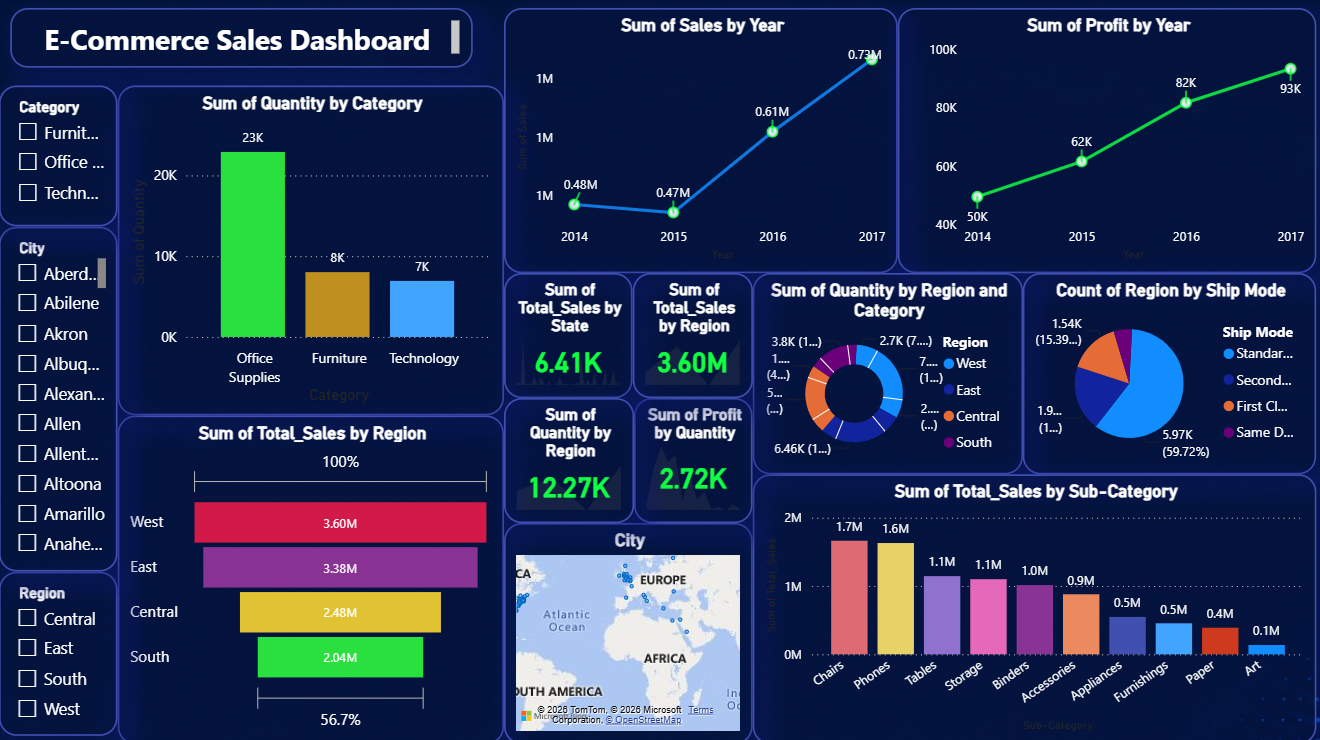

What the dashboard file says about the page in this screenshot:
{"tool":"powerbi","page":{"name":"Page 1","canvas":[1280,720],"ordinal":0},"visuals":[{"type":"textbox","box":[10.9,9.7,446.4,57.9],"z":0},{"type":"columnChart","fields":{"Category":["Sample - Superstore.Category"],"Y":["Sum(Sample.Quantity)"]},"box":[114.6,84.5,372.8,318.5],"z":1000},{"type":"lineChart","fields":{"Y":["Sum(Sample.Sales)"],"Category":["Sample.Order Date.Variation.Date Hierarchy.Year"]},"box":[487.4,9.7,380,255.8],"z":3000},{"type":"lineChart","fields":{"Category":["Sample.Order Date.Variation.Date Hierarchy.Year"],"Y":["Sum(Sample.Profit)"]},"box":[867.4,9.7,404.2,255.8],"z":4000},{"type":"donutChart","fields":{"Category":["Sample.Region"],"Y":["Sum(Sample.Quantity)"],"Series":["Sample.Category"]},"box":[727.5,265.4,260.6,194.2],"z":5000},{"type":"funnel","fields":{"Category":["Sample.Region"],"Y":["Sum(Sample.Total_Sales)"]},"box":[114.6,403,372.8,317.3],"z":6000},{"type":"map","fields":{"Category":["Sample.City"]},"box":[487.4,506.7,240.1,213.5],"z":7000},{"type":"pieChart","title":"         Count of Region by Ship Mode","fields":{"Category":["Sample.Ship Mode"],"Y":["CountNonNull(Sample.Region)"]},"box":[988.1,265.4,283.5,194.2],"z":8000},{"type":"columnChart","fields":{"Category":["Sample.Sub-Category"],"Y":["Sum(Sample.Total_Sales)"]},"box":[727.5,459.7,544.1,260.6],"z":9000},{"type":"kpi","fields":{"Indicator":["Sum(Sample.Profit)"],"TrendLine":["Sample.Quantity"]},"box":[612.4,386.3,114.6,120.6],"z":10000},{"type":"kpi","fields":{"Indicator":["Sum(Sample.Total_Sales)"],"TrendLine":["Sample.State"]},"box":[486.9,265.7,124.3,120.6],"z":11000},{"type":"kpi","fields":{"Indicator":["Sum(Sample.Quantity)"],"TrendLine":["Sample.Region"]},"box":[486.9,386.3,125.5,120.6],"z":12000},{"type":"kpi","fields":{"Indicator":["Sum(Sample.Total_Sales)"],"TrendLine":["Sample.Region"]},"box":[611.2,265.7,115.8,120.6],"z":13000},{"type":"slicer","fields":{"Values":["Sample.Region"]},"box":[0,553.8,114.6,158],"z":14000},{"type":"slicer","fields":{"Values":["Sample.City"]},"box":[0,220.8,114.6,333],"z":15000},{"type":"slicer","fields":{"Values":["Sample.Category"]},"box":[0,84.5,114.6,136.3],"z":16000}]}

Visuals, with their boxes in screenshot pixels (x1, y1, x2, y2), scaled from the page's 1280x720 canvas onto the 1320x740 screenshot:
textbox: box=[11, 10, 472, 69]
columnChart - Sample - Superstore.Category x Sum(Sample.Quantity): box=[118, 87, 503, 414]
lineChart - Sum(Sample.Sales) x Sample.Order Date.Variation.Date Hierarchy.Year: box=[503, 10, 895, 273]
lineChart - Sample.Order Date.Variation.Date Hierarchy.Year x Sum(Sample.Profit): box=[895, 10, 1311, 273]
donutChart - Sample.Region x Sum(Sample.Quantity): box=[750, 273, 1019, 472]
funnel - Sample.Region x Sum(Sample.Total_Sales): box=[118, 414, 503, 739]
map - Sample.City: box=[503, 521, 750, 739]
"         Count of Region by Ship Mode" pieChart: box=[1019, 273, 1311, 472]
columnChart - Sample.Sub-Category x Sum(Sample.Total_Sales): box=[750, 472, 1311, 739]
kpi - Sum(Sample.Profit) x Sample.Quantity: box=[632, 397, 750, 521]
kpi - Sum(Sample.Total_Sales) x Sample.State: box=[502, 273, 630, 397]
kpi - Sum(Sample.Quantity) x Sample.Region: box=[502, 397, 632, 521]
kpi - Sum(Sample.Total_Sales) x Sample.Region: box=[630, 273, 750, 397]
slicer - Sample.Region: box=[0, 569, 118, 732]
slicer - Sample.City: box=[0, 227, 118, 569]
slicer - Sample.Category: box=[0, 87, 118, 227]
